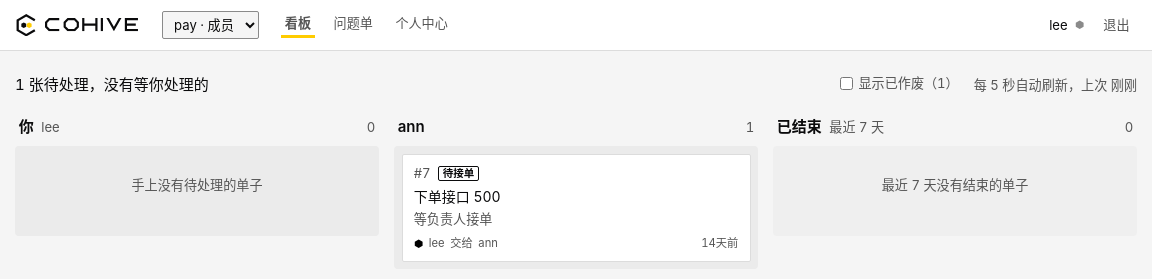
Scenario: 看板默认隐藏已作废的单，打开开关后显示
This screenshot has width=1152, height=279.
Expected: the text "下单接口 500" is shown, [414, 188, 501, 205]
Expected: the text "作废掉的单" is not shown
Click the checkbox labelled "显示已作废（1）": (846, 83) [840, 76, 853, 90]
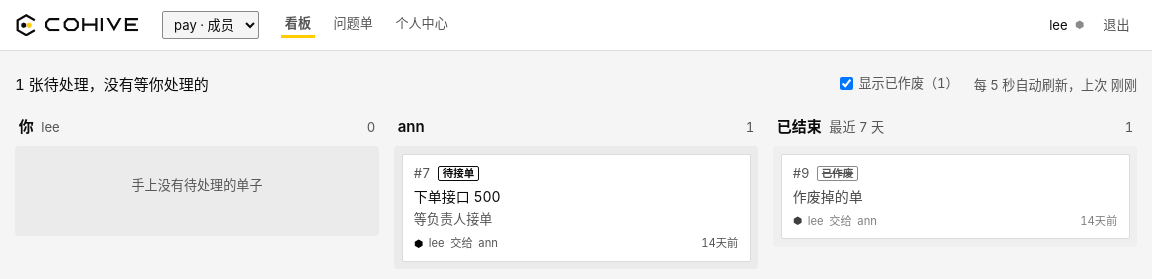
Expected: the text "作废掉的单" is shown, [793, 188, 863, 205]
